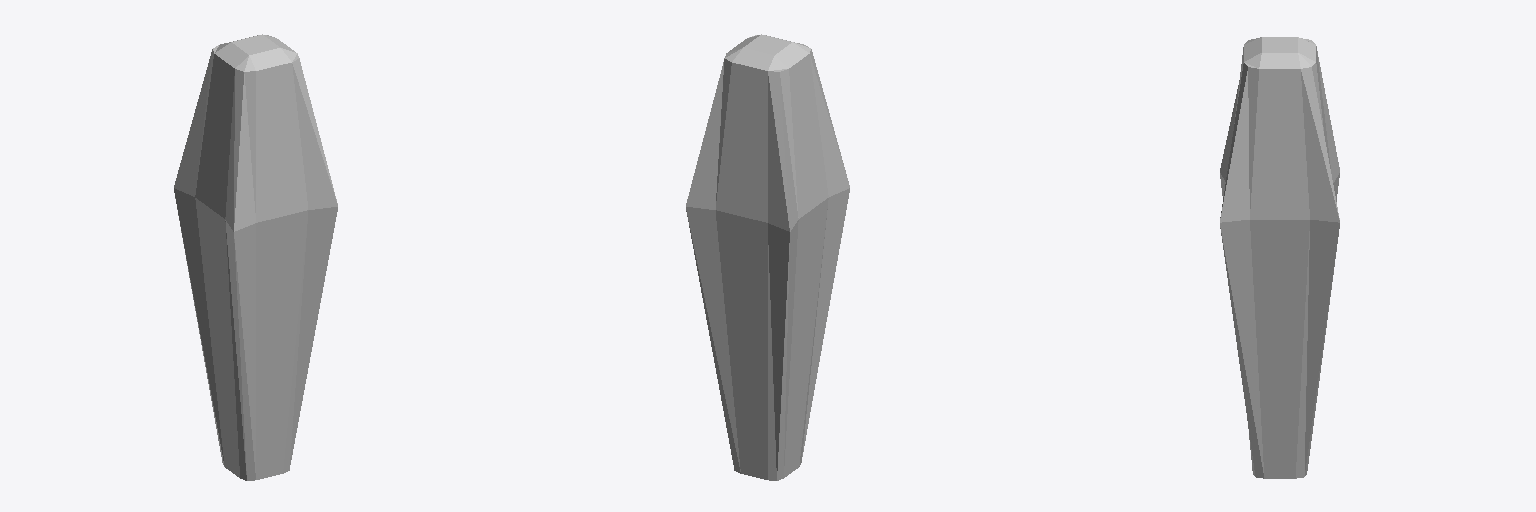
File: cactus1.obj
3 views of the same model, side by side, from view 1: azimuth 30°, elevation 25°; view 2: azimuth 150°, elevation 25°; view 3: azimuth 270°, elevation 25° (orthographic).
Parts seen in each view (by area): view 1: Cube_Cube.001; view 2: Cube_Cube.001; view 3: Cube_Cube.001.
Part boxes in pixels (bbox=[...]): Cube_Cube.001: bbox=[174, 34, 337, 480]; Cube_Cube.001: bbox=[686, 34, 849, 480]; Cube_Cube.001: bbox=[1220, 37, 1339, 478].
Size of the model in its own units: 0.233 by 0.8996 by 0.233.